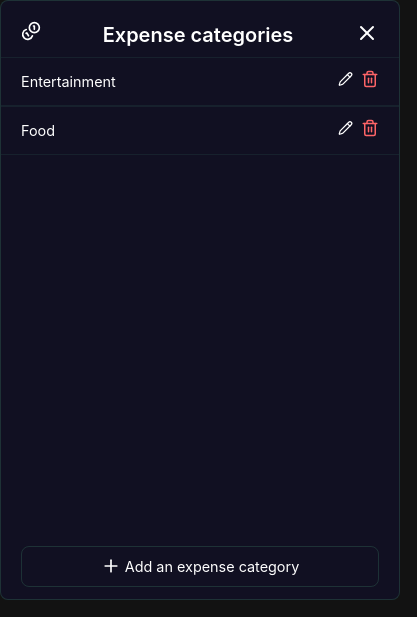
Test elements inside the expense categories modal › Render the elements into view
Expected: the text "Entertainment" is shown, [21, 70, 116, 93]
Click the text "Add an expense category". click: (212,566)
box: [125, 555, 299, 578]
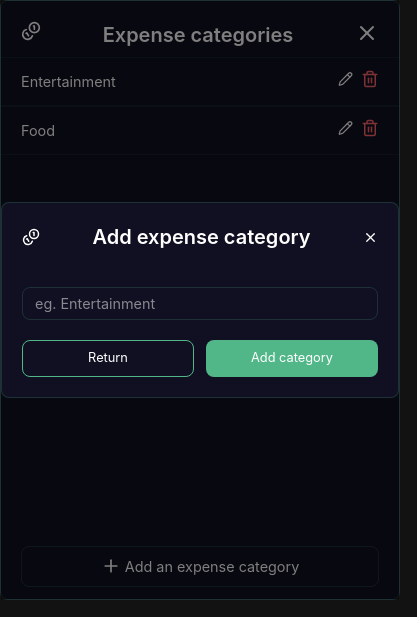
Expected: the text "Add expense category" is shown, [92, 223, 311, 251]
Expected: the field with placeholder "eg. Entertainment" is shown, [22, 287, 378, 320]
